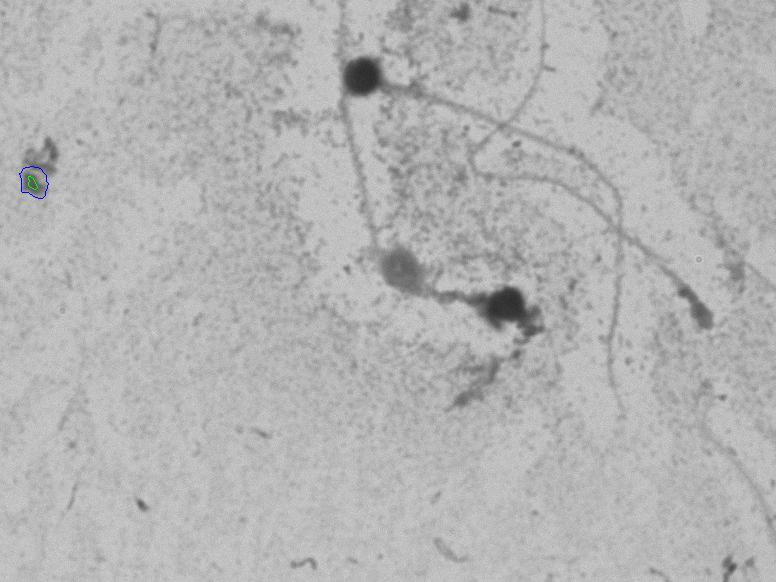Abnormal: (280, 181, 558, 399), (328, 14, 617, 163)
